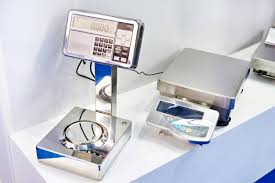Industrial Scale: (37, 7, 145, 180), (147, 46, 250, 149)
